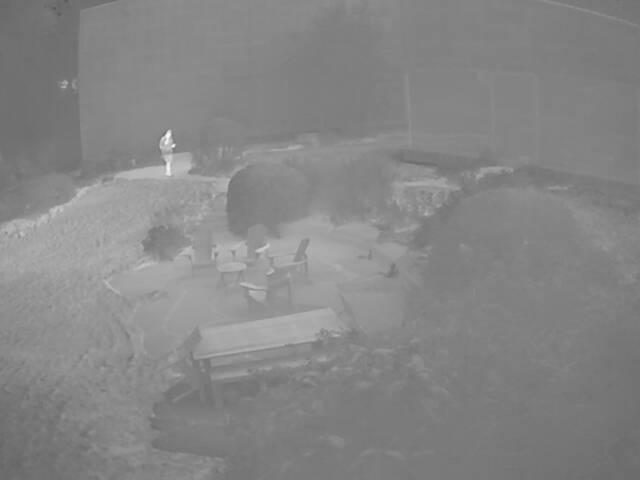person: (159, 128, 175, 177)
